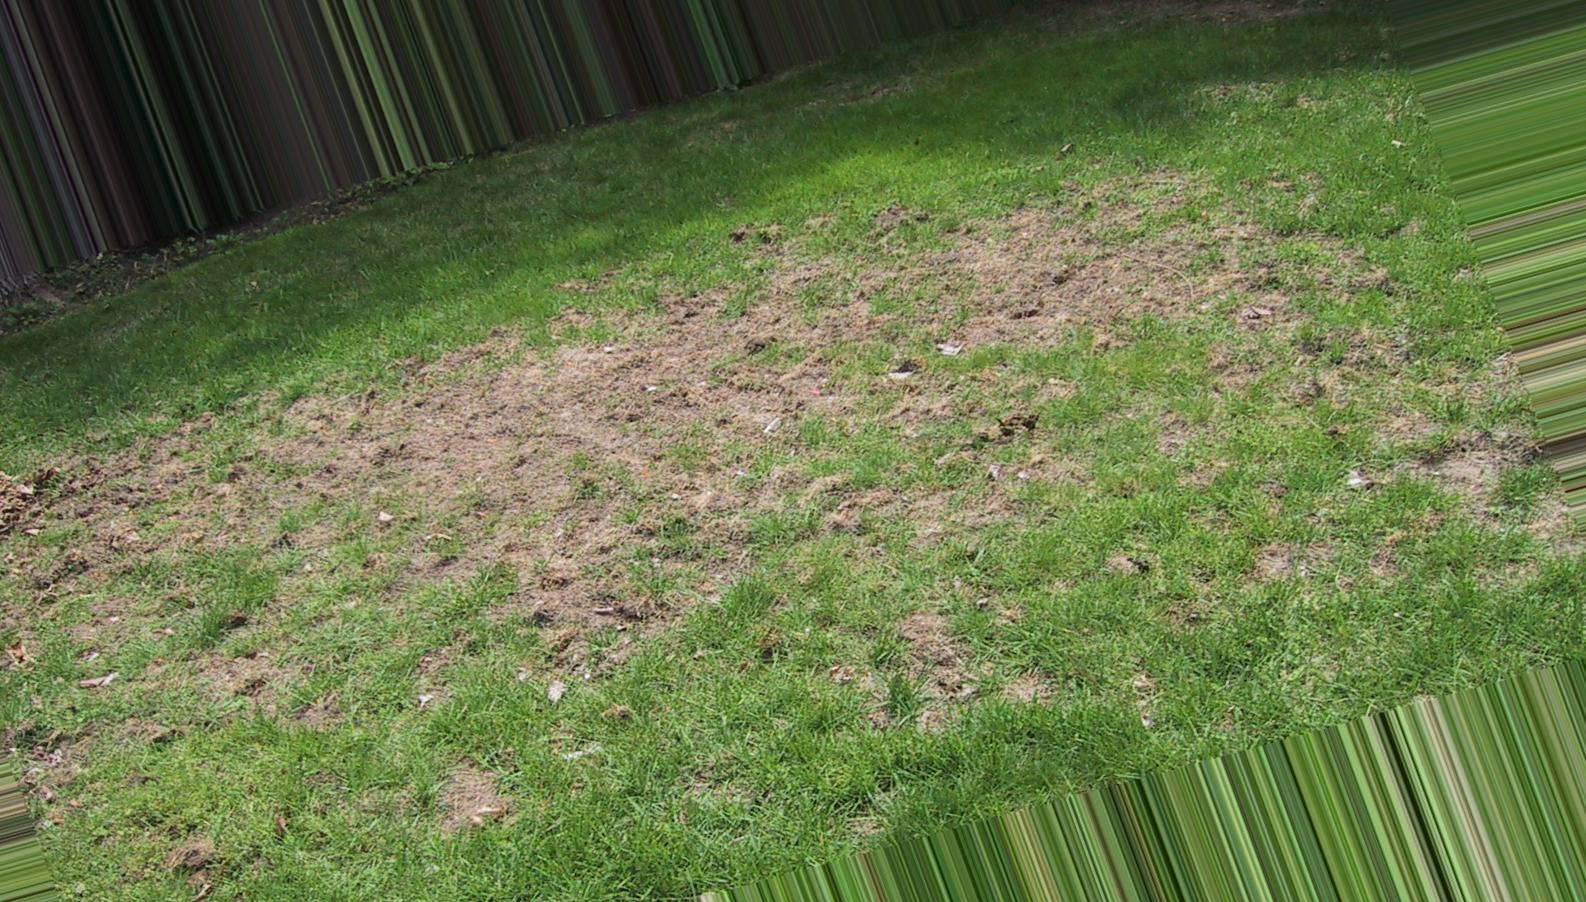patch: (651, 330, 810, 480), (376, 392, 576, 510), (844, 246, 968, 359), (1018, 237, 1178, 324), (557, 566, 646, 646)
